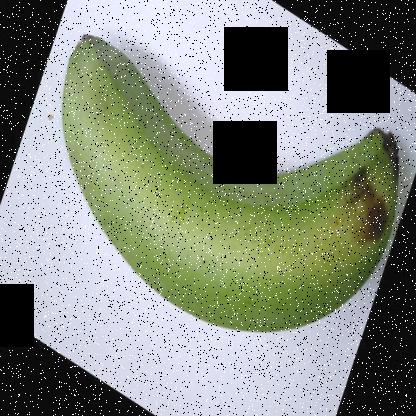freshunripe: (49, 20, 416, 354)
